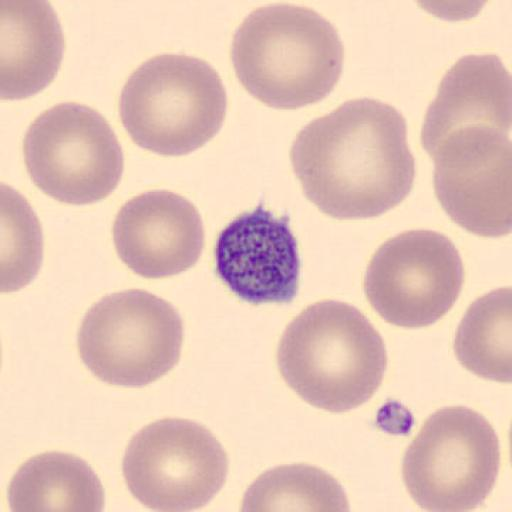Platelet: (210, 206, 305, 307)
RBC: (290, 94, 418, 222), (274, 296, 389, 416), (228, 1, 347, 113), (116, 50, 230, 159), (74, 286, 186, 390), (398, 403, 502, 512), (20, 100, 126, 206), (419, 51, 512, 171), (361, 226, 465, 332), (119, 414, 231, 512), (431, 122, 512, 240), (111, 187, 206, 281), (1, 1, 67, 102), (5, 448, 106, 512), (451, 284, 512, 385), (236, 460, 353, 512), (2, 182, 44, 295), (407, 0, 498, 23)
